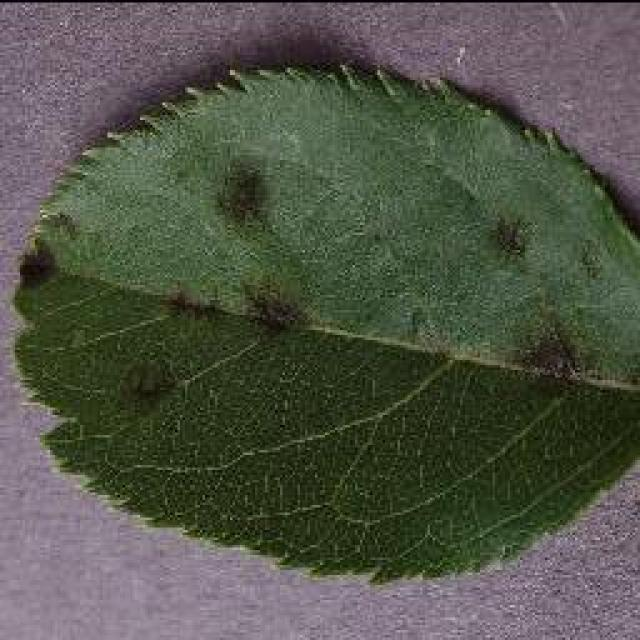apple scab disease: (8, 55, 638, 585)
